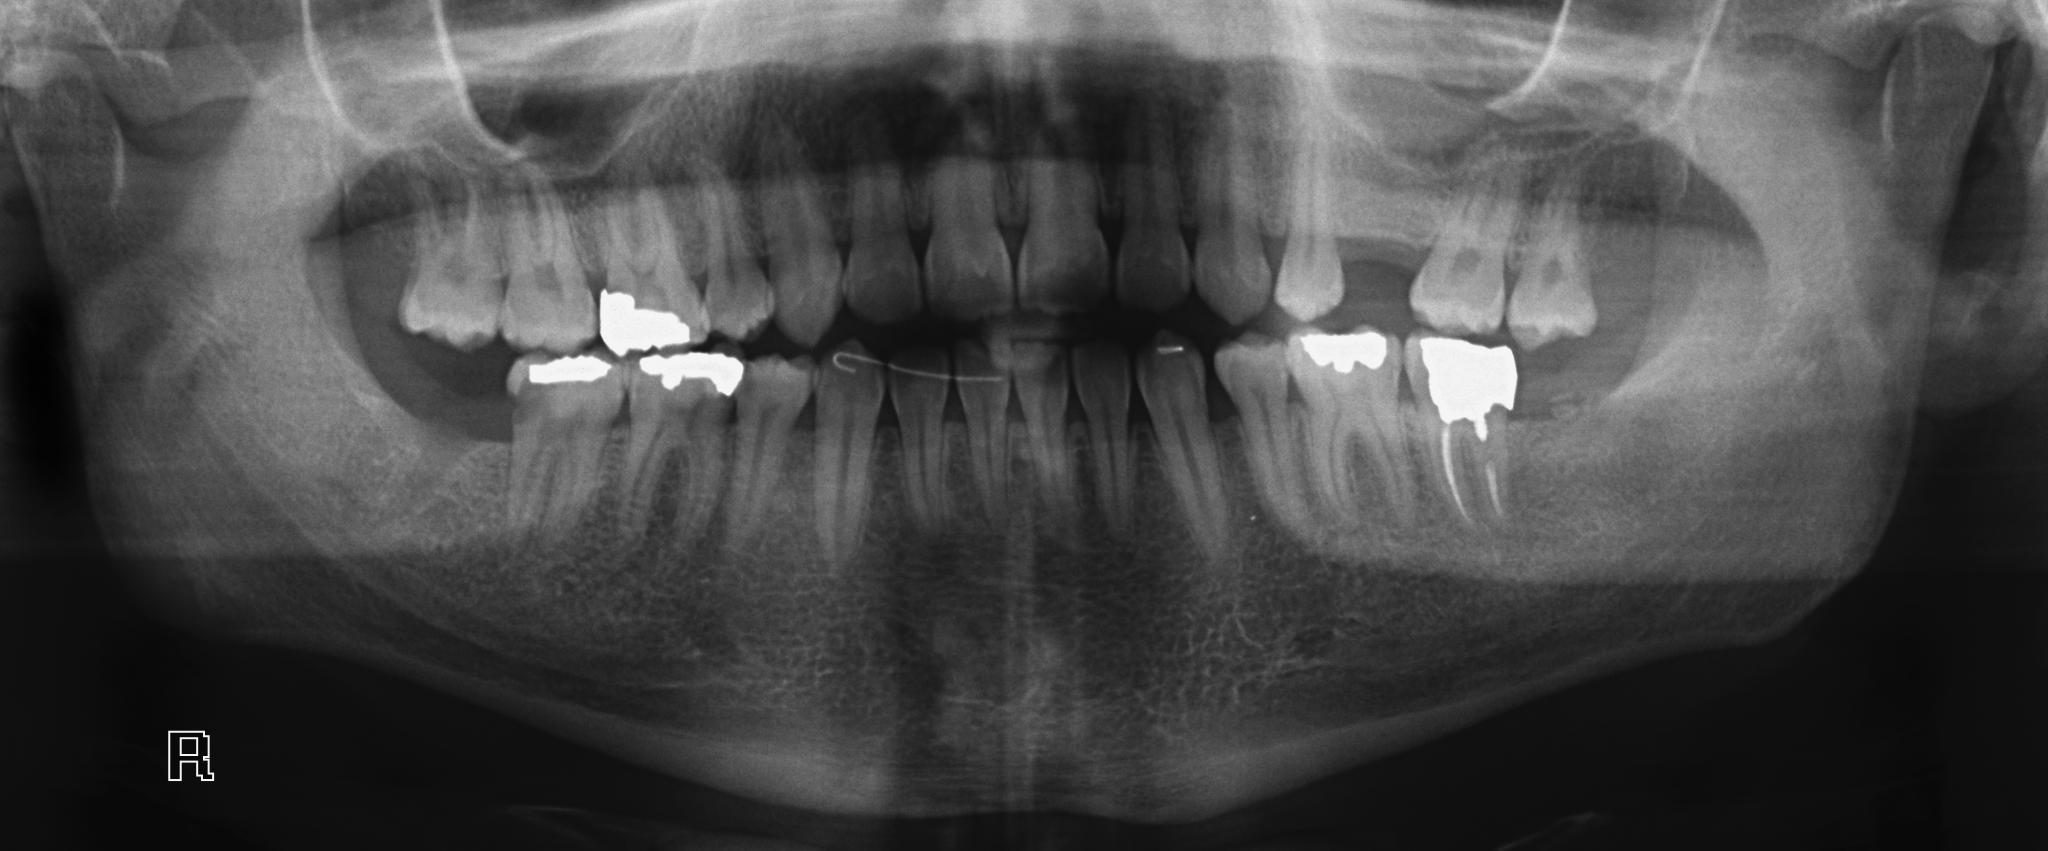fractura: (498, 351, 629, 552), (1399, 333, 1525, 538), (622, 350, 739, 553), (1285, 327, 1401, 523), (590, 182, 706, 353)
